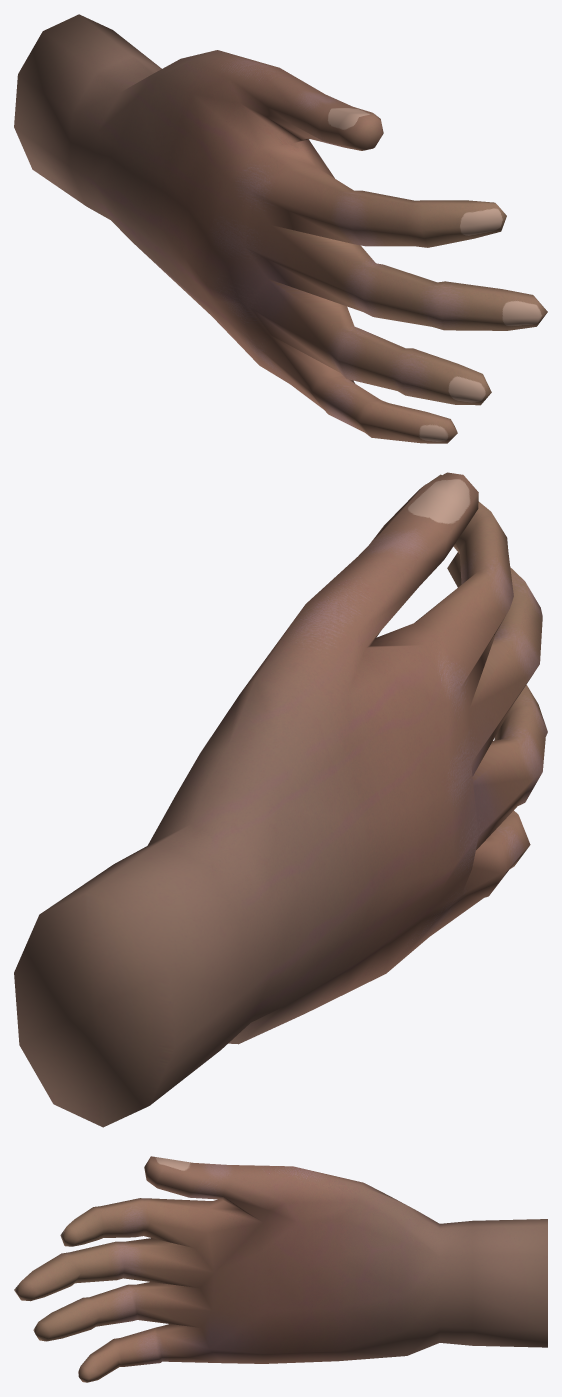
File: hand_FINAL.FBX
3 renders of one model, top to bottom at view 1: azimuth 30°, elevation 25°; view 2: azimuth 150°, elevation 25°; view 3: azimuth 270°, elevation 25°, orthographic. The views are drawn at different scales.
Parts seen in each view (by area): view 1: MannequinHand_Right; view 2: MannequinHand_Right; view 3: MannequinHand_Right.
Boxes of the visible parts, x1,y1,x2,y2 form: MannequinHand_Right: (14,14,547,443); MannequinHand_Right: (14,472,547,1127); MannequinHand_Right: (14,1156,547,1382).
Size of the model in its own units: 13.89 by 23.86 by 54.01.
1 material, 1 textured.
